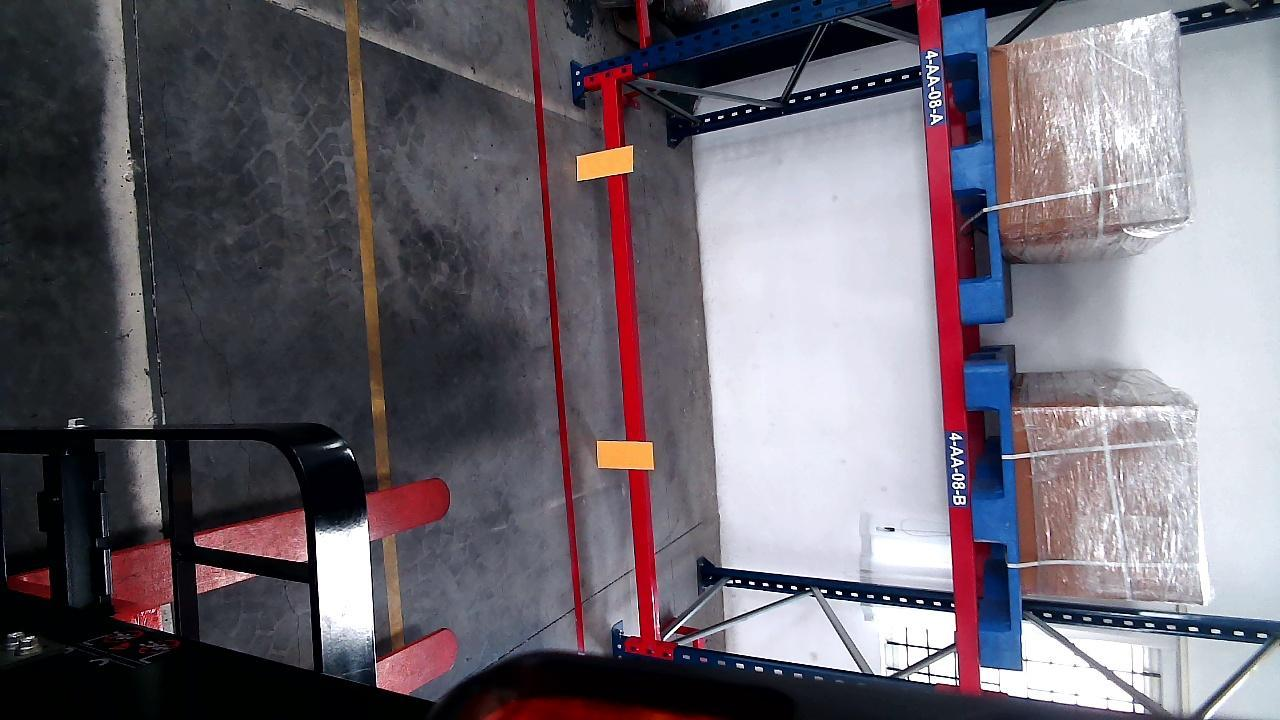red_line: (526, 2, 587, 659)
